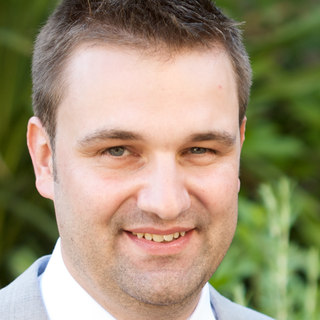eye: (91, 140, 143, 164), (180, 140, 222, 165)
